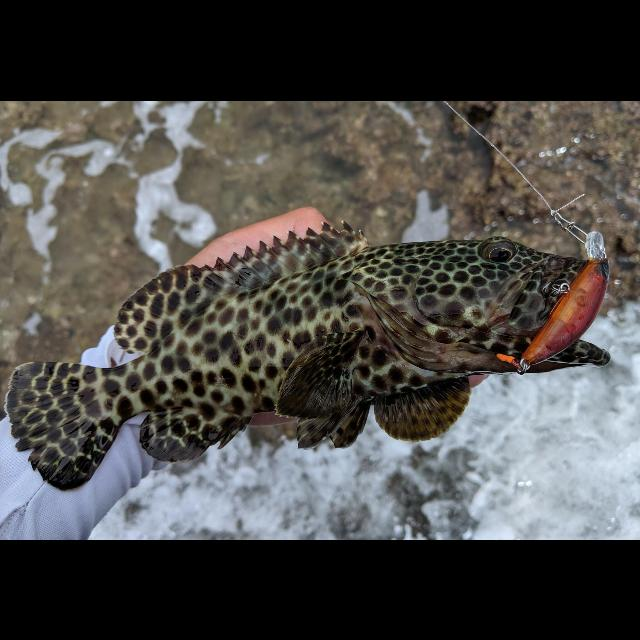Groupers: (4, 215, 612, 492)
